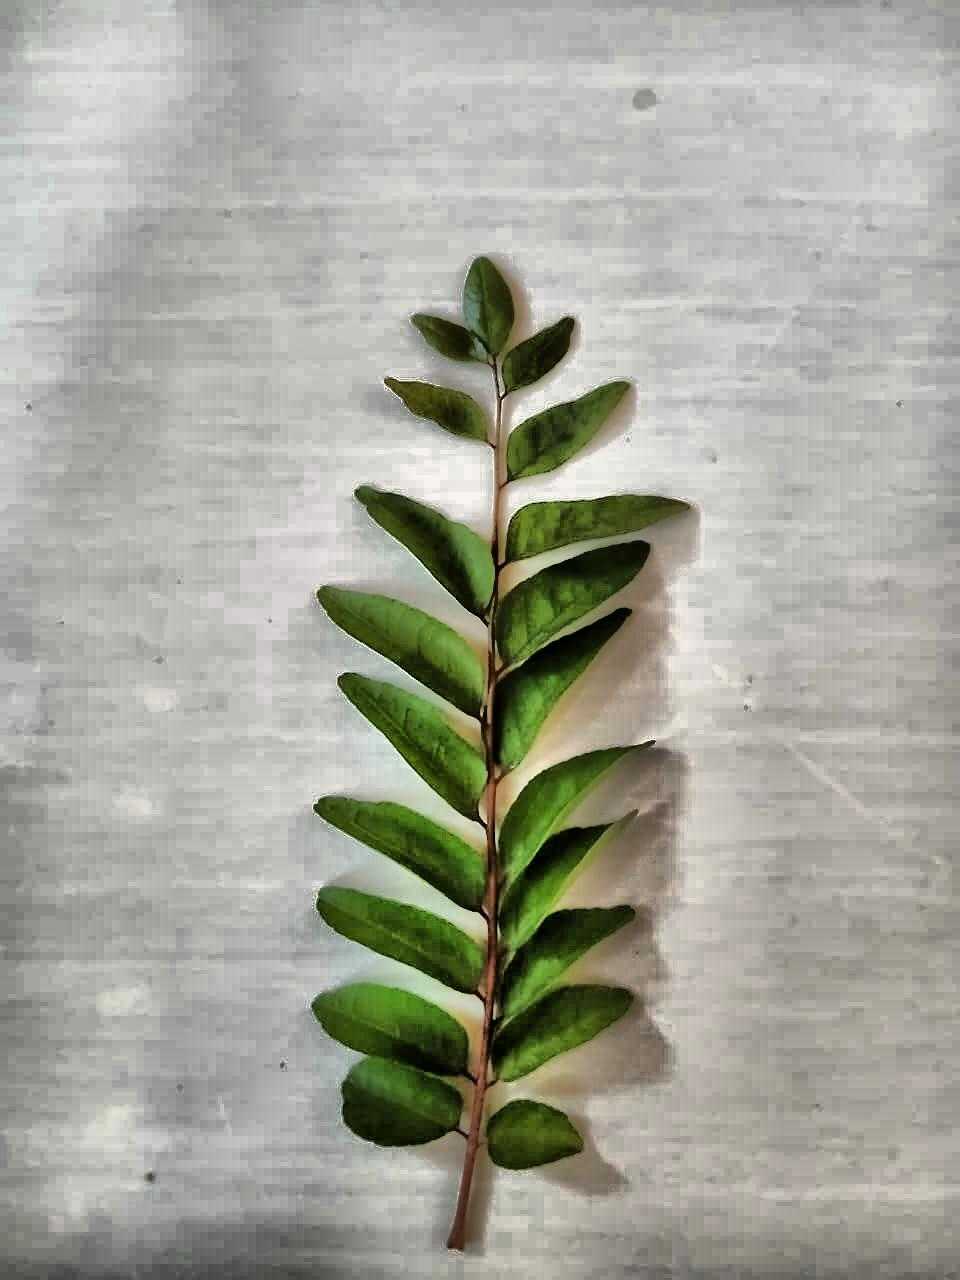daun kari: (313, 258, 651, 1249)
